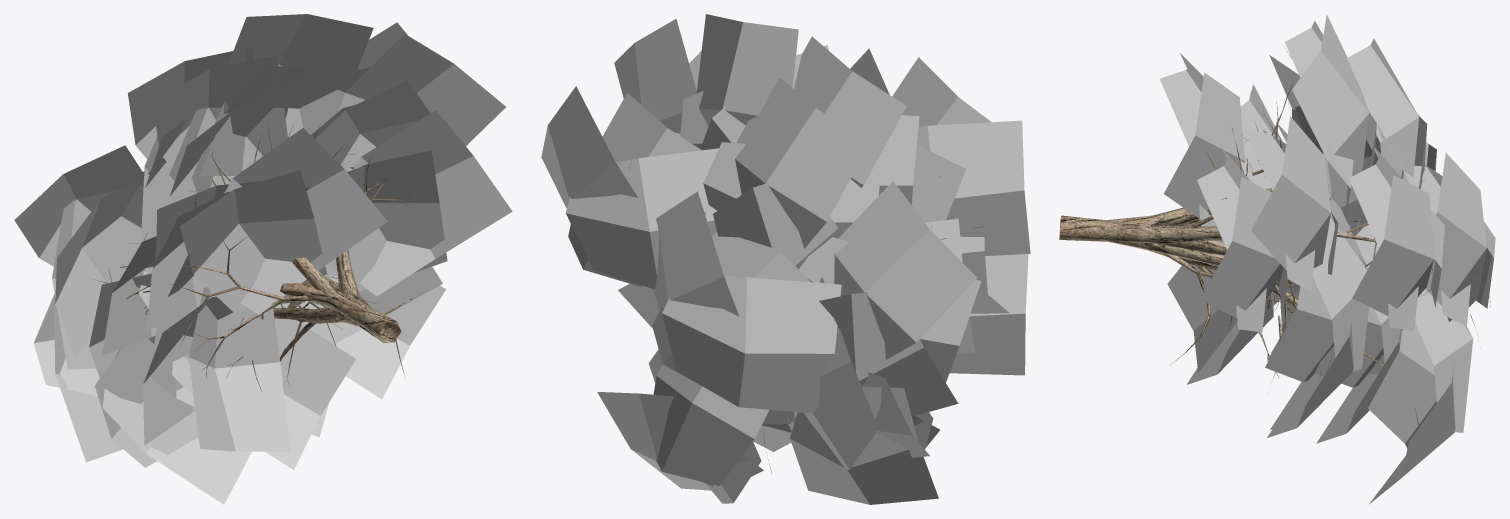
The model's file is arbol55.fbx.
The picture shows the model from 3 angles, left to right: view 1: azimuth 30°, elevation 25°; view 2: azimuth 150°, elevation 25°; view 3: azimuth 270°, elevation 25°; orthographic projection. The views are drawn at different scales.
Visible parts, largest first — view 1: Plane.058; view 2: Plane.058; view 3: Plane.058.
Part boxes in pixels (x1,y1,x2,y2): Plane.058: (14,14,512,504); Plane.058: (541,14,1030,504); Plane.058: (1059,14,1495,504).
Size of the model in its own units: 766 by 756 by 670.
